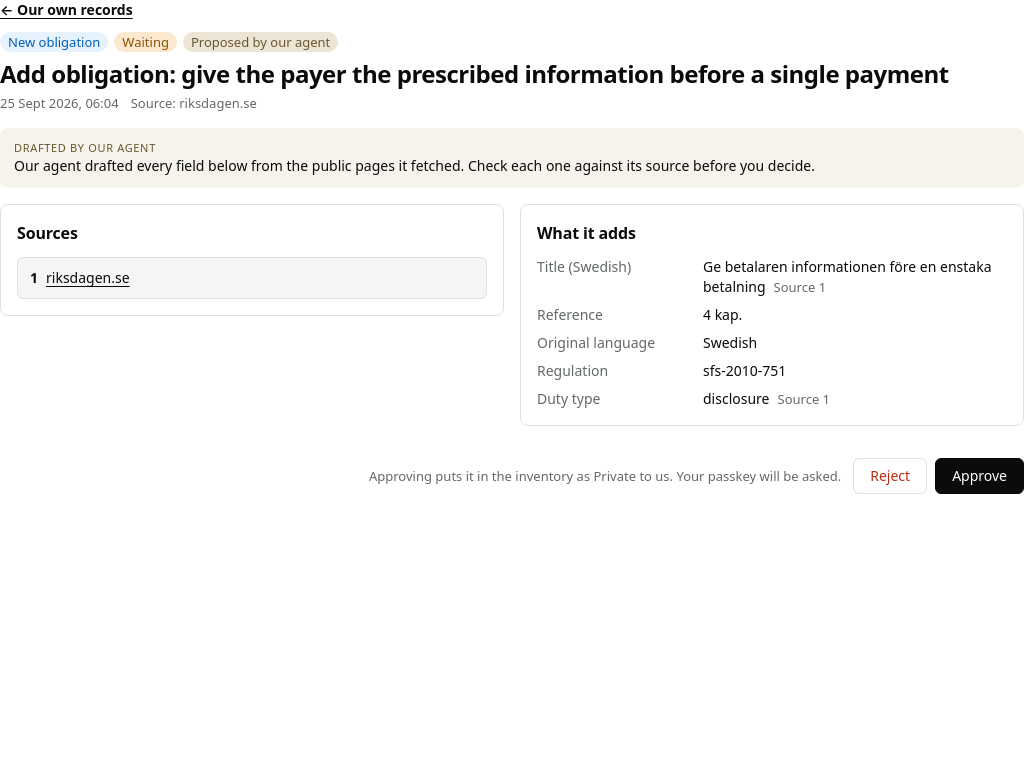
Test case: a proposal › rejects only with a reason and a note, and sends the reason's key
The width and height of the screenshot is (1024, 768).
Click the button "Reject". click: point(890, 476)
box: [853,458,927,494]
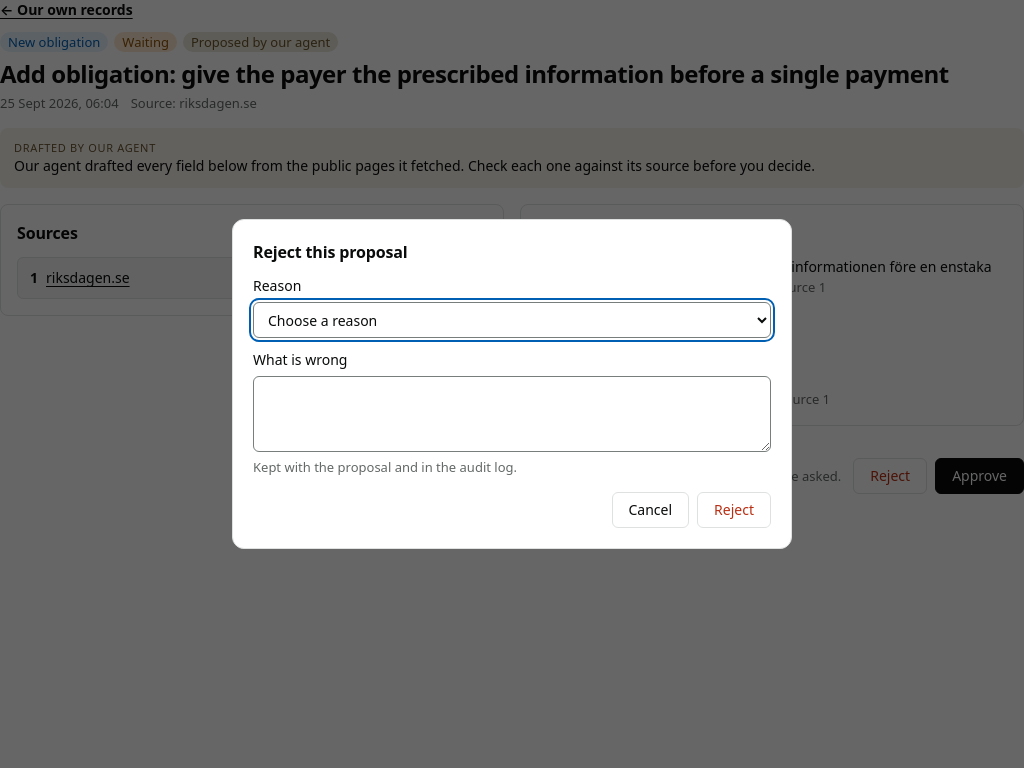
Click the button "Reject". click: point(734, 510)
box: [697,492,771,528]
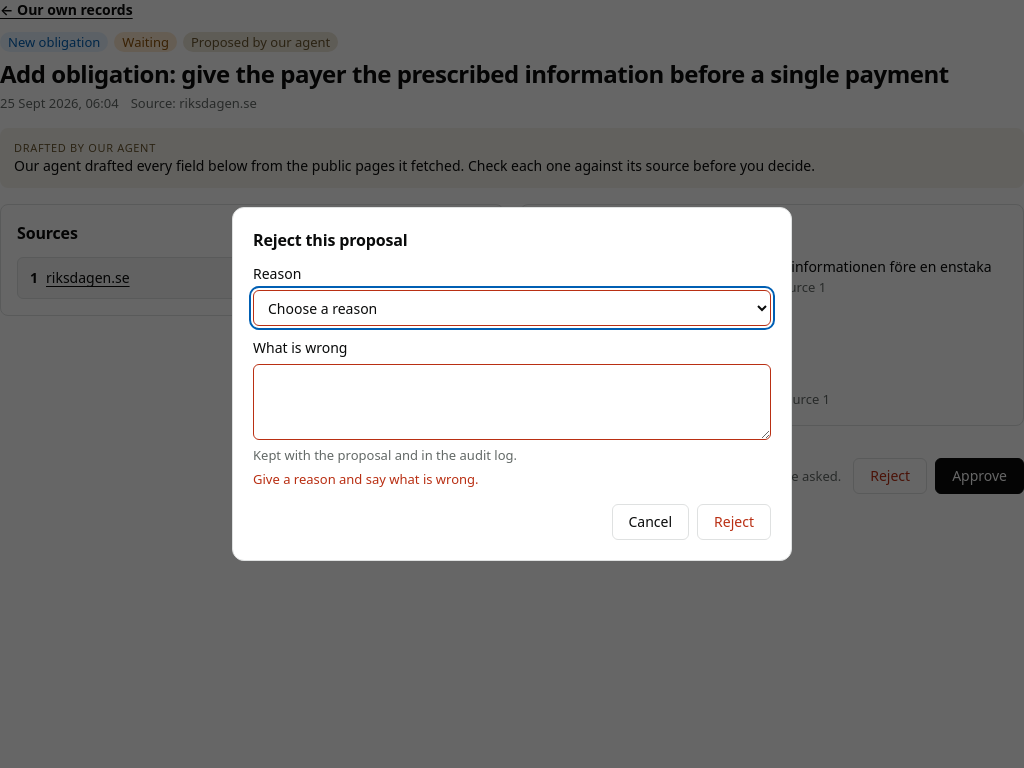
Expected: the text "Give a reason and say what is wrong." is shown, [253,470,479,488]
Select "Duplicate" in the dropdown labelled "Reason". click: point(512, 308)
box: [253,290,771,326]
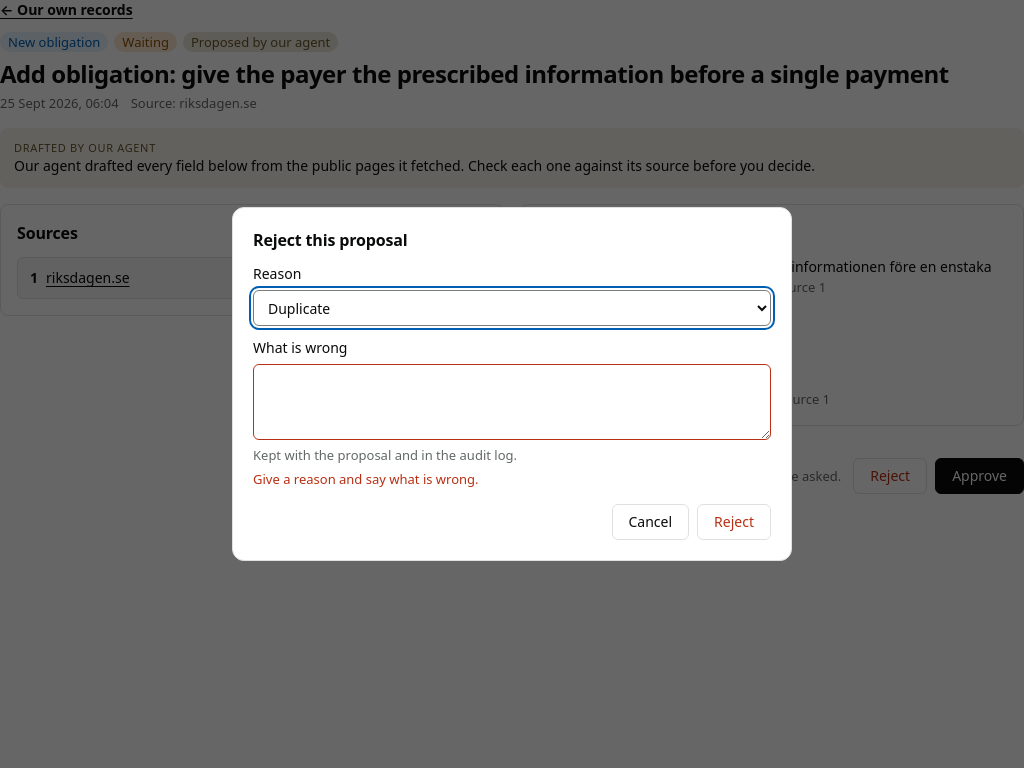
Type " We already hold this duty. " into the text box labelled "What is wrong". click: point(512, 402)
box: [253,364,771,440]
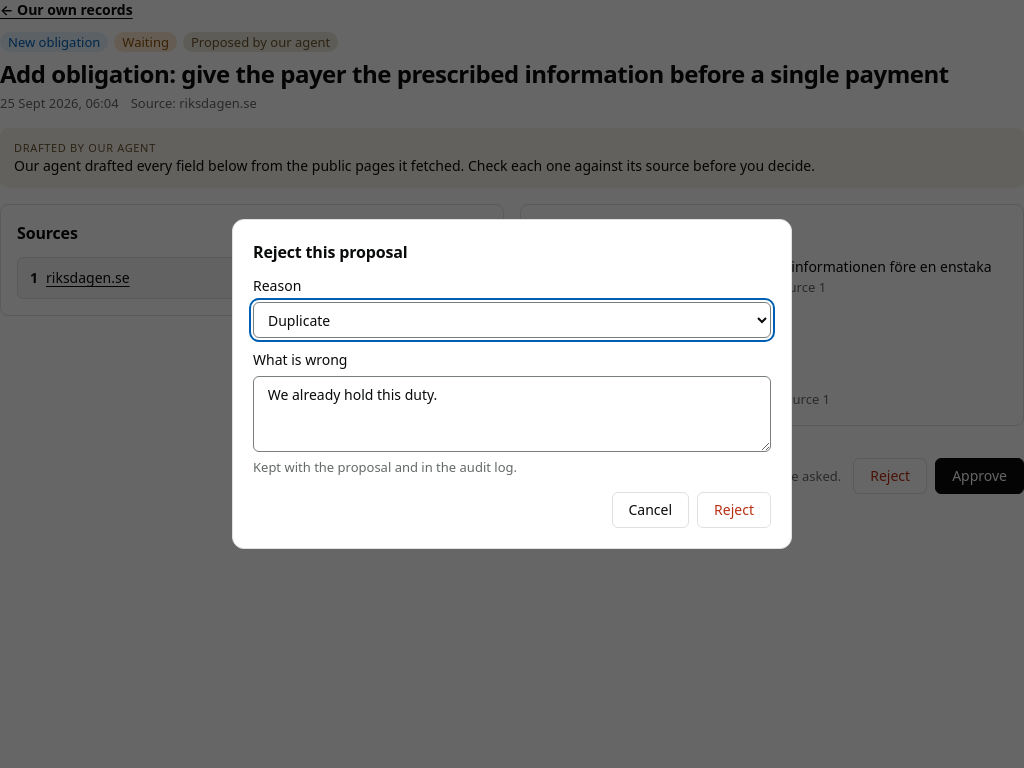
Click the button "Reject". click: point(734, 510)
box: [697,492,771,528]
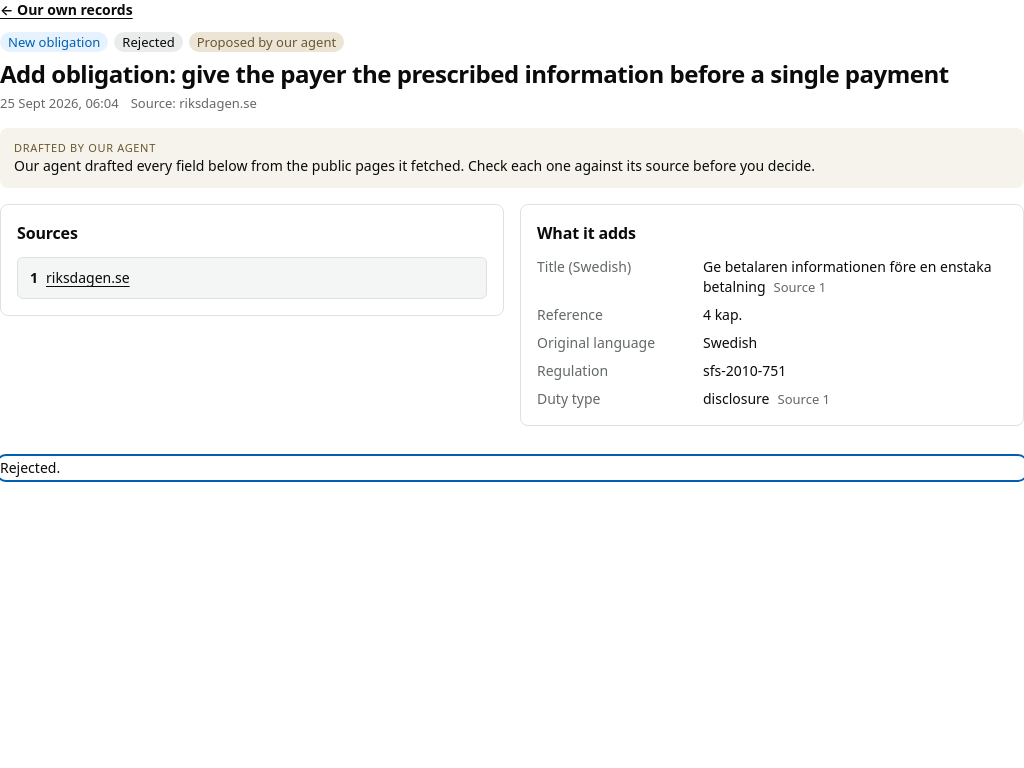
Expected: the text "Rejected." is shown, [0,458,60,477]
